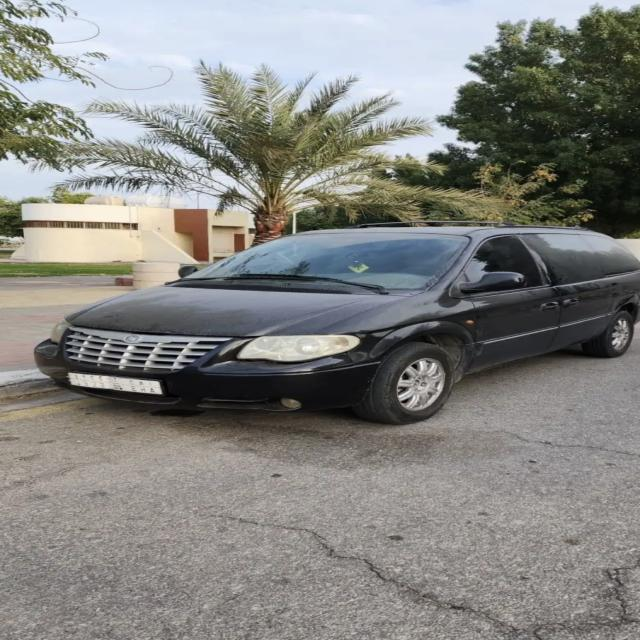license_plate: (67, 371, 166, 396)
